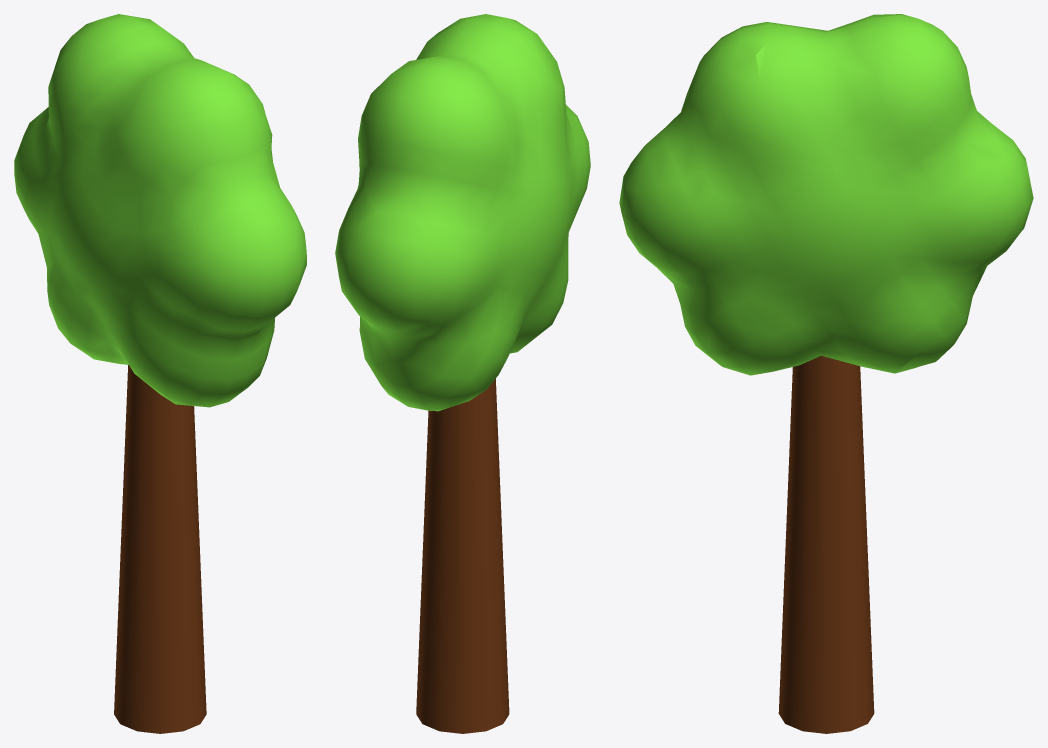
The model's file is TreeApple.fbx.
3 renders of one model, left to right at view 1: azimuth 30°, elevation 25°; view 2: azimuth 150°, elevation 25°; view 3: azimuth 270°, elevation 25°, orthographic. The views are drawn at different scales.
Visible parts, largest first — view 1: Mball.007, Cylinder; view 2: Mball.007, Cylinder; view 3: Mball.007, Cylinder.
Boxes of the visible parts, <box> form: Mball.007: <box>14,14,306,407</box>; Cylinder: <box>114,365,206,733</box>; Mball.007: <box>335,14,590,411</box>; Cylinder: <box>416,378,509,733</box>; Mball.007: <box>619,14,1033,375</box>; Cylinder: <box>778,356,874,733</box>.
Bounding box in the file's own units: 349 × 1277 × 694.
